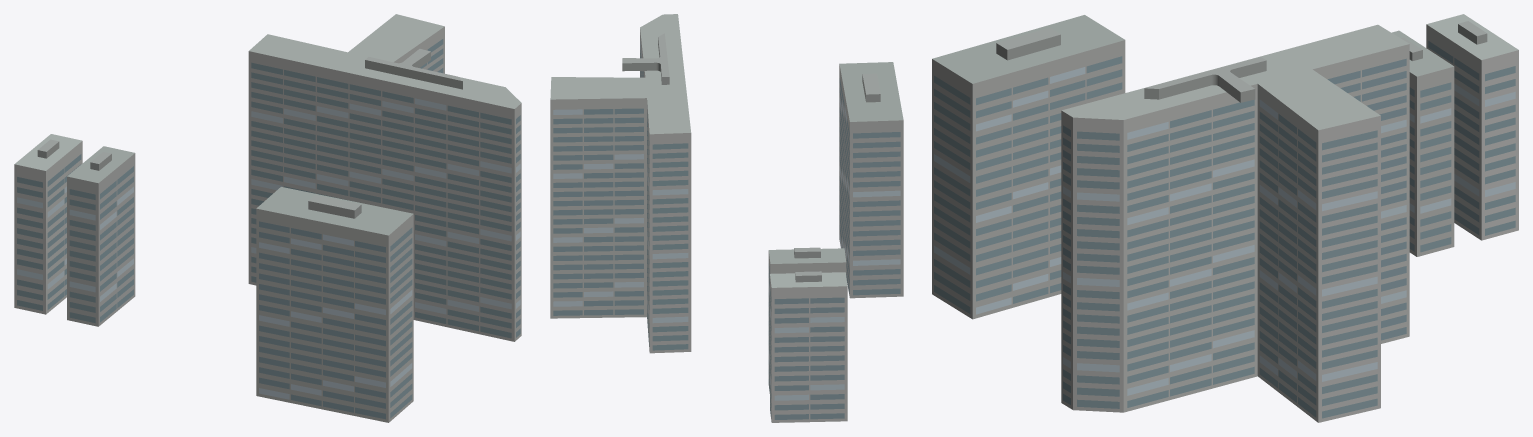
The model's file is apt-a15283806.glb.
3 renders of one model, left to right at view 1: azimuth 30°, elevation 25°; view 2: azimuth 150°, elevation 25°; view 3: azimuth 270°, elevation 25°, orthographic. The views are drawn at different scales.
Parts seen in each view (by area): view 1: apt-a15283806; view 2: apt-a15283806; view 3: apt-a15283806.
Part boxes in pixels (x1,y1,x2,y2): apt-a15283806: [14, 14, 521, 422]; apt-a15283806: [550, 14, 903, 422]; apt-a15283806: [932, 14, 1518, 422].
Size of the model in its own units: 112 by 69 by 121.
